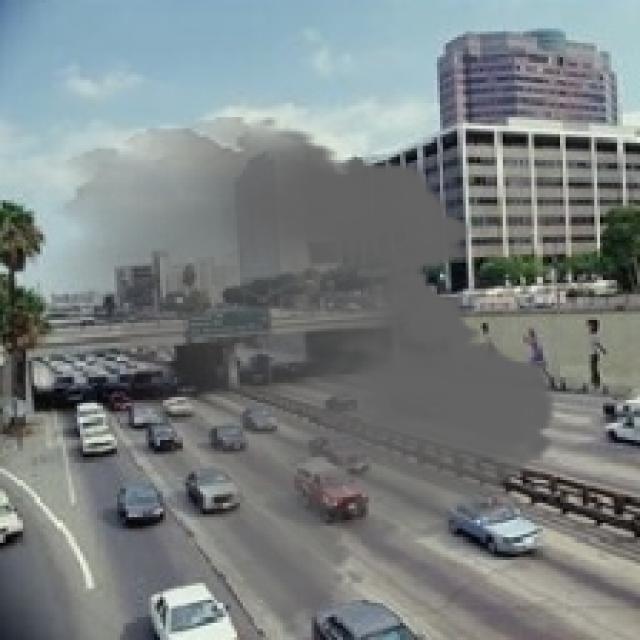smoke: (37, 117, 574, 637)
